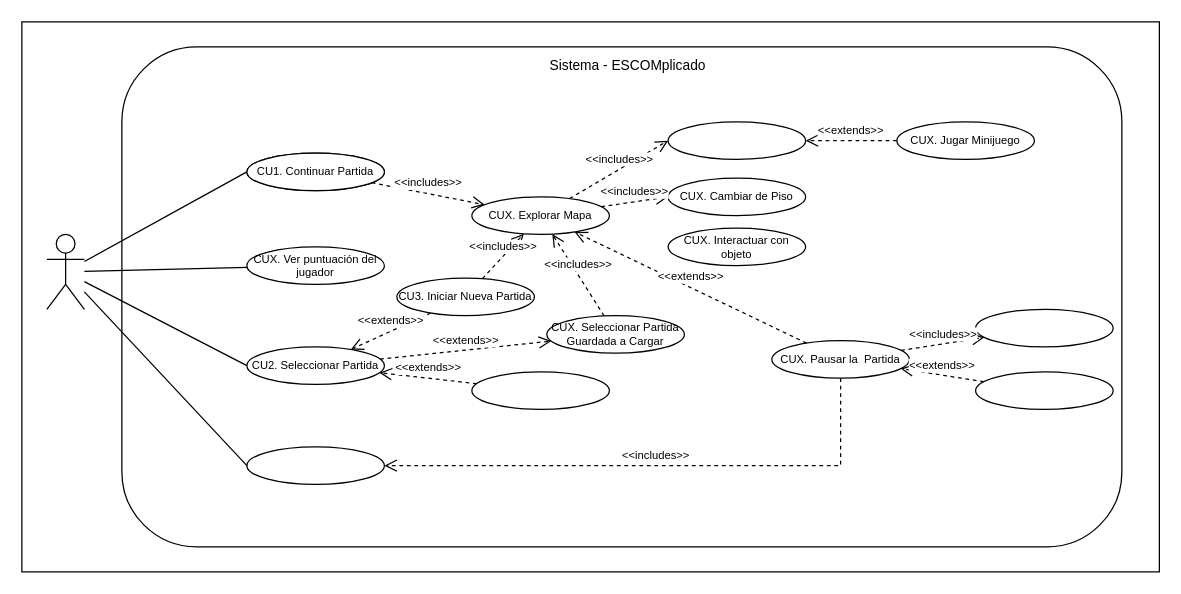
This 1181x594 diagram has some shape labels left out. The centre of each missing label's shape, as x and y in pixels:
"CU3. Salir del Juego" belongs at (x=315, y=465).
"CUX. Eliminar Partida" belongs at (x=540, y=390).
"CUX. Guardar Partida" belongs at (x=1043, y=390).
"CUX. Ingresar a Salón" belongs at (x=736, y=140).
"CUX. Reanudar Partida" belongs at (x=1043, y=327).
"Jugador" belongs at (x=65, y=271).
